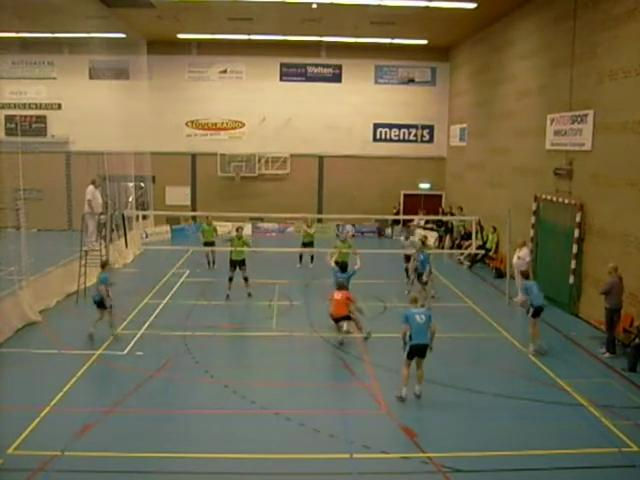Dig: (323, 241, 364, 302)
Player: (397, 294, 435, 401), (329, 281, 370, 344), (88, 260, 115, 340), (520, 270, 545, 354), (225, 226, 251, 299), (407, 238, 431, 298), (328, 232, 358, 265), (199, 217, 217, 268), (298, 218, 315, 267), (403, 252, 412, 283)
ball: (343, 225, 357, 238)
